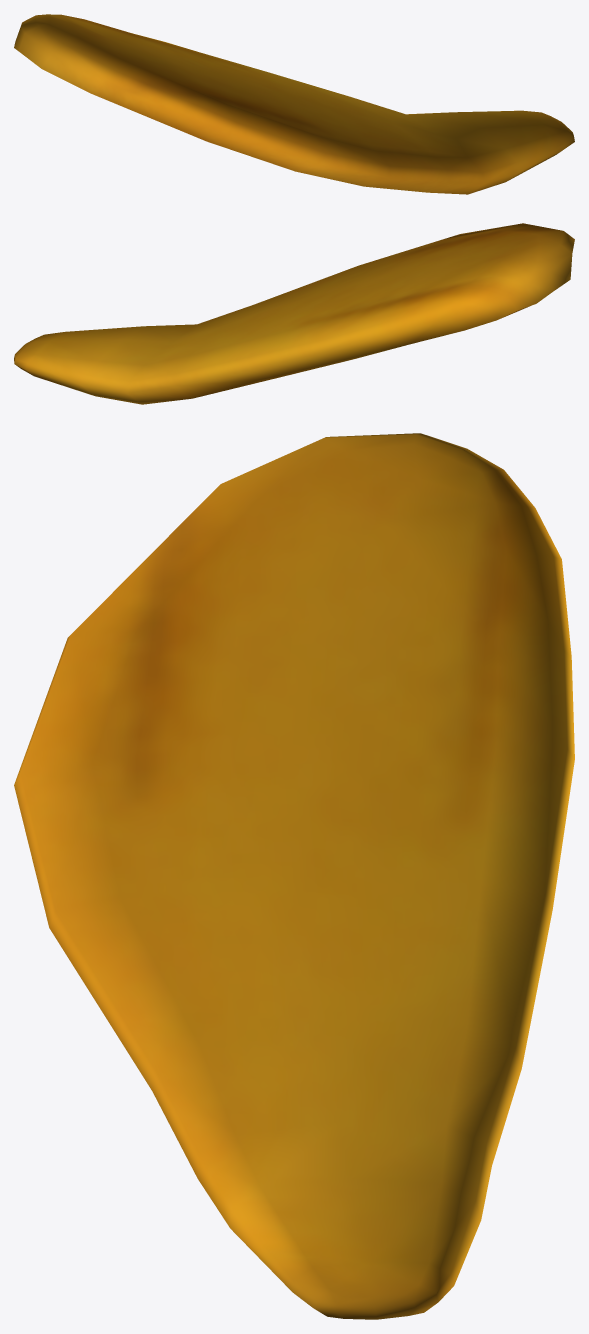
File: alaDerechaWoodstock.obj
3 views of the same model, one above another, from view 1: azimuth 30°, elevation 25°; view 2: azimuth 150°, elevation 25°; view 3: azimuth 270°, elevation 25° (orthographic). The views are drawn at different scales.
Visible parts, largest first — view 1: alaDerechaWoodstock; view 2: alaDerechaWoodstock; view 3: alaDerechaWoodstock.
Boxes of the visible parts, <box> form: alaDerechaWoodstock: <box>14,14,574,194</box>; alaDerechaWoodstock: <box>14,223,574,404</box>; alaDerechaWoodstock: <box>14,433,574,1319</box>.
Bounding box in the file's own units: 0.2121 × 0.0875 × 0.1035.
Materials: 1 (1 with a texture image).
